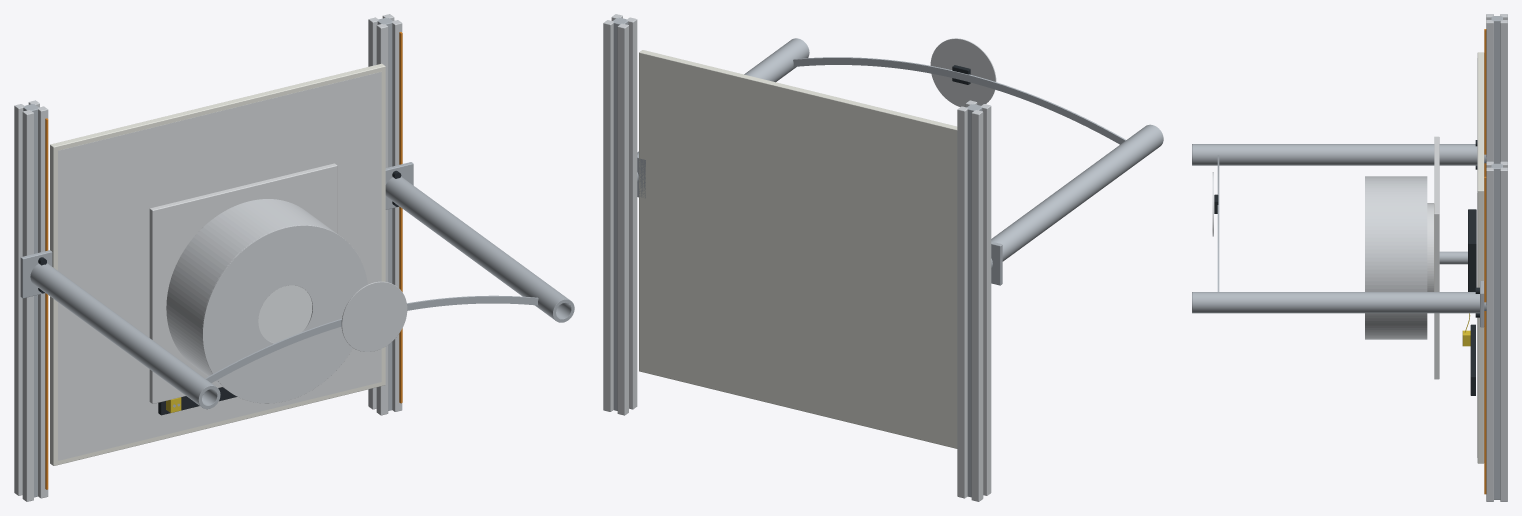
Rendered from prepared_cooler_white.glb.
The picture shows the model from 3 angles, left to right: view 1: azimuth 30°, elevation 25°; view 2: azimuth 150°, elevation 25°; view 3: azimuth 270°, elevation 25°; orthographic projection. The views are drawn at different scales.
Visible parts, largest first — view 1: COOLER_WHITE__mylar_base, COOLER_WHITE__aperture_plate, COOLER_WHITE__lift_plate, COOLER_WHITE__radiation_shield, COOLER_WHITE__acrylic_base, COOLER_WHITE__upright_-0.1625, COOLER_WHITE__upright_0.1625, COOLER_WHITE__rail_-0.1625_flange_-1_1, COOLER_WHITE__solar_reflector, COOLER_WHITE__rail_-0.1625_flange_-1_-1, COOLER_WHITE__rail_-0.1625_flange_1_1, COOLER_WHITE__rail_0.1625_flange_1_1 (+9 smaller); view 2: COOLER_WHITE__acrylic_base, COOLER_WHITE__upright_-0.1625, COOLER_WHITE__rail_-0.1625_flange_-1_-1, COOLER_WHITE__rail_0.1625_flange_-1_-1, COOLER_WHITE__rail_-0.1625_flange_1_-1, COOLER_WHITE__rail_0.1625_flange_1_-1, COOLER_WHITE__rail_0.1625_flange_-1_1, COOLER_WHITE__rail_-0.1625_flange_-1_1, COOLER_WHITE__solar_reflector, COOLER_WHITE__reflector_track, COOLER_WHITE__rail_-0.1625_core, COOLER_WHITE__rail_0.1625_core (+1 smaller); view 3: COOLER_WHITE__radiation_shield, COOLER_WHITE__upright_0.1625, COOLER_WHITE__upright_-0.1625, COOLER_WHITE__acrylic_base, COOLER_WHITE__rail_0.1625_flange_1_-1, COOLER_WHITE__rail_0.1625_flange_1_1, COOLER_WHITE__rail_0.1625_core, COOLER_WHITE__lift_plate, COOLER_WHITE__rail_-0.1625_flange_1_1, COOLER_WHITE__rail_-0.1625_flange_1_-1, COOLER_WHITE__rail_-0.1625_core, COOLER_WHITE__orange_insert_0.1625 (+7 smaller).
Boxes of the visible parts, x1,y1,x2,y2 form: COOLER_WHITE__mylar_base: (58,72,381,460); COOLER_WHITE__aperture_plate: (202,225,367,403); COOLER_WHITE__lift_plate: (149,163,337,403); COOLER_WHITE__radiation_shield: (166,199,336,388); COOLER_WHITE__acrylic_base: (50,63,385,465); COOLER_WHITE__upright_-0.1625: (30,263,220,409); COOLER_WHITE__upright_0.1625: (385,177,574,322); COOLER_WHITE__rail_-0.1625_flange_-1_1: (22,110,33,501); COOLER_WHITE__solar_reflector: (341,281,407,351); COOLER_WHITE__rail_-0.1625_flange_-1_-1: (14,104,24,495); COOLER_WHITE__rail_-0.1625_flange_1_1: (38,106,48,498); COOLER_WHITE__rail_0.1625_flange_1_1: (392,20,402,411); COOLER_WHITE__acrylic_base: (639,50,957,448); COOLER_WHITE__upright_-0.1625: (991,124,1163,268); COOLER_WHITE__rail_-0.1625_flange_-1_-1: (971,110,983,501); COOLER_WHITE__rail_0.1625_flange_-1_-1: (617,23,628,415); COOLER_WHITE__rail_-0.1625_flange_1_-1: (957,106,967,498); COOLER_WHITE__rail_0.1625_flange_1_-1: (603,20,613,411); COOLER_WHITE__rail_0.1625_flange_-1_1: (626,17,637,409); COOLER_WHITE__rail_-0.1625_flange_-1_1: (981,104,991,495); COOLER_WHITE__solar_reflector: (930,38,996,106); COOLER_WHITE__reflector_track: (793,57,1125,144); COOLER_WHITE__rail_-0.1625_core: (967,104,982,497); COOLER_WHITE__rail_0.1625_core: (613,17,628,410); COOLER_WHITE__radiation_shield: (1366,176,1427,339); COOLER_WHITE__upright_0.1625: (1192,292,1486,313); COOLER_WHITE__upright_-0.1625: (1192,144,1486,165); COOLER_WHITE__acrylic_base: (1477,52,1484,463); COOLER_WHITE__rail_0.1625_flange_1_-1: (1500,167,1507,501); COOLER_WHITE__rail_0.1625_flange_1_1: (1486,167,1493,501); COOLER_WHITE__rail_0.1625_core: (1491,163,1502,499); COOLER_WHITE__lift_plate: (1434,136,1439,379); COOLER_WHITE__rail_-0.1625_flange_1_1: (1486,20,1493,161); COOLER_WHITE__rail_-0.1625_flange_1_-1: (1500,20,1507,161); COOLER_WHITE__rail_-0.1625_core: (1491,16,1502,163); COOLER_WHITE__orange_insert_0.1625: (1484,176,1486,494).
Size of the model in its own units: 0.359 by 0.34 by 0.2935.
